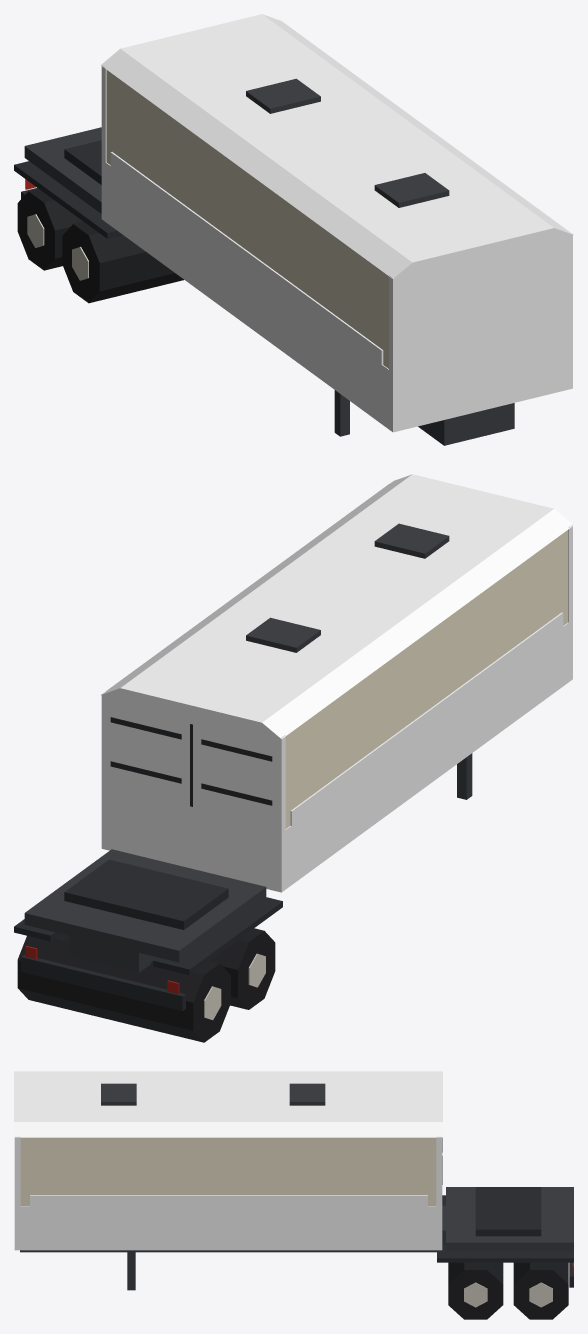
The model's file is rt_reefer_a.glb.
The picture shows the model from 3 angles, top to bottom: view 1: azimuth 30°, elevation 25°; view 2: azimuth 150°, elevation 25°; view 3: azimuth 270°, elevation 25°; orthographic projection. The views are drawn at different scales.
Visible parts, largest first — view 1: model; view 2: model; view 3: model.
Boxes of the visible parts, x1=… form: model: x1=14, y1=14, x2=573, y2=445; model: x1=14, y1=474, x2=573, y2=1042; model: x1=14, y1=1071, x2=573, y2=1319.
Size of the model in its own units: 2.58 by 3.62 by 9.4.
